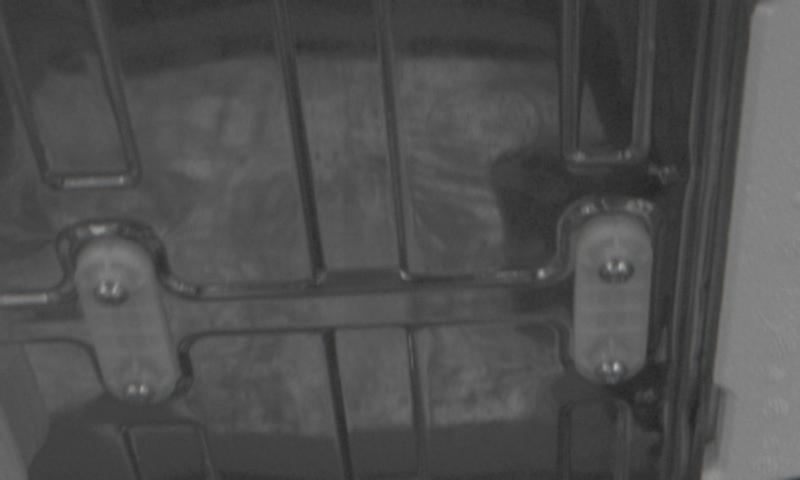vida-ok: (596, 250, 639, 295), (92, 274, 132, 319), (117, 374, 159, 414), (592, 353, 632, 392)
